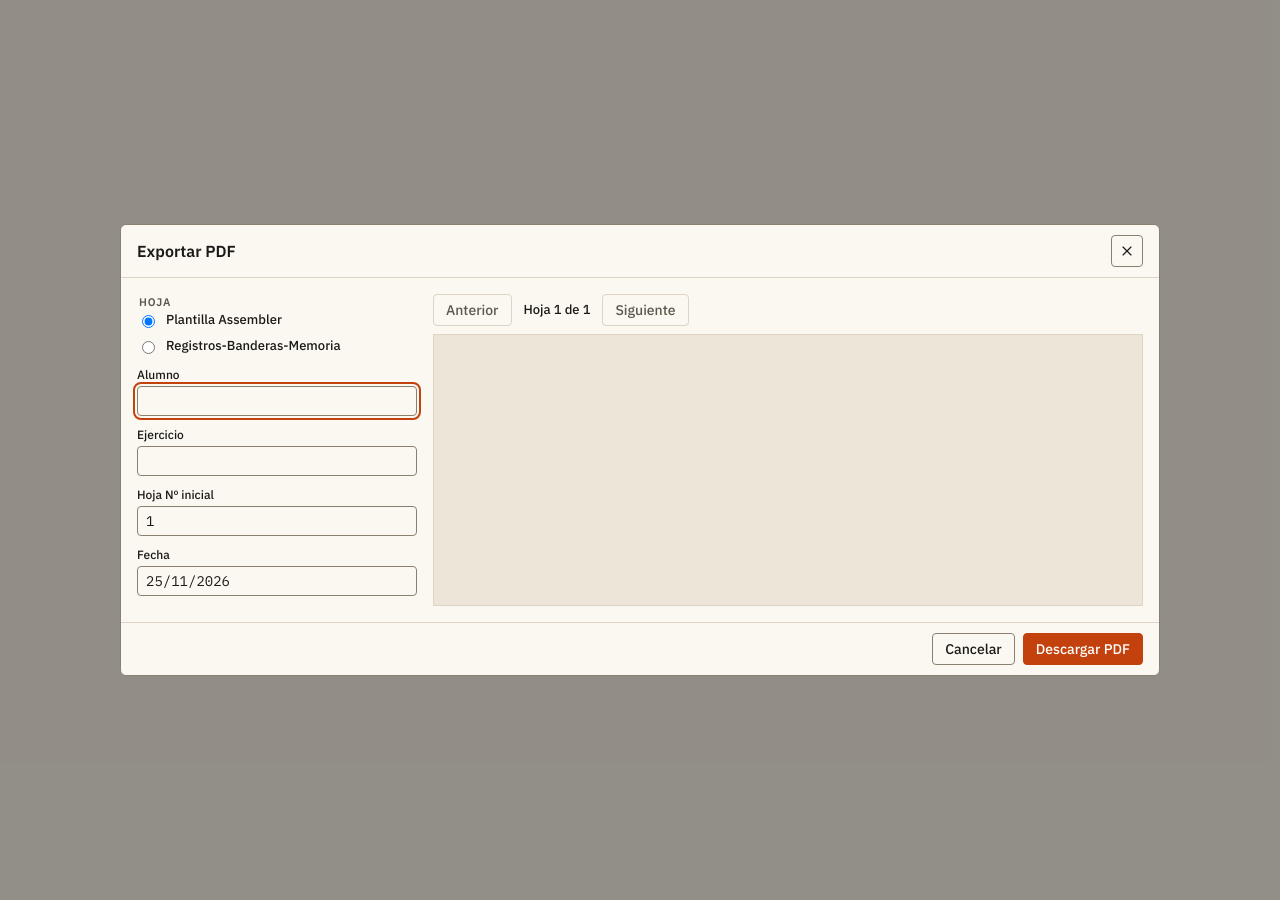
Test: ExportDialog › bucle infinito en Registros: avisa de las primeras 500 instrucciones
What coordinates should you click on to do the following:
click the radio button labelled "Registros-Banderas-Memoria"
I would click on:
 (148, 348)
Its box is [142,341,155,354].
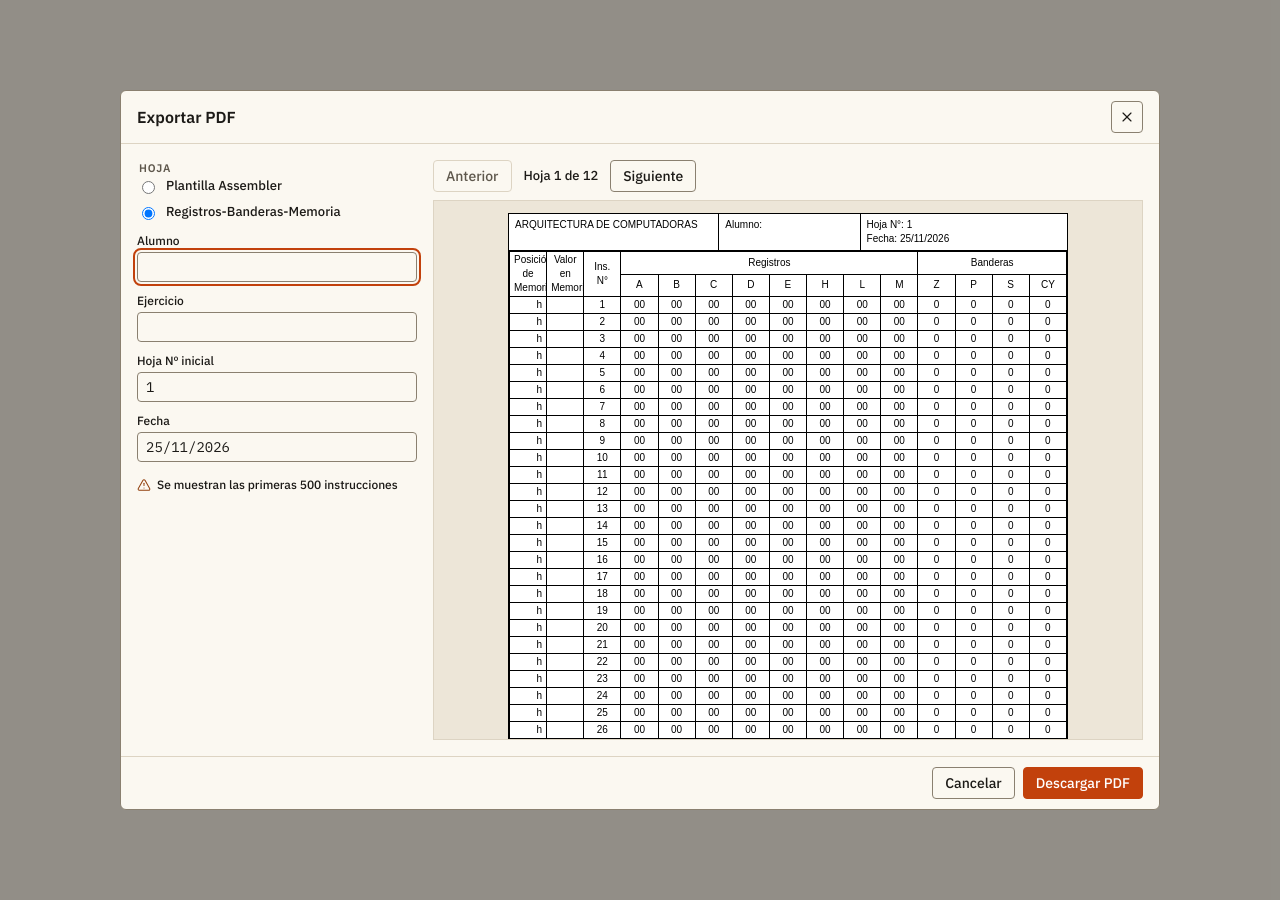
Expected: the text "Se muestran las primeras 500 instrucciones" is shown, [137,476,417,494]
